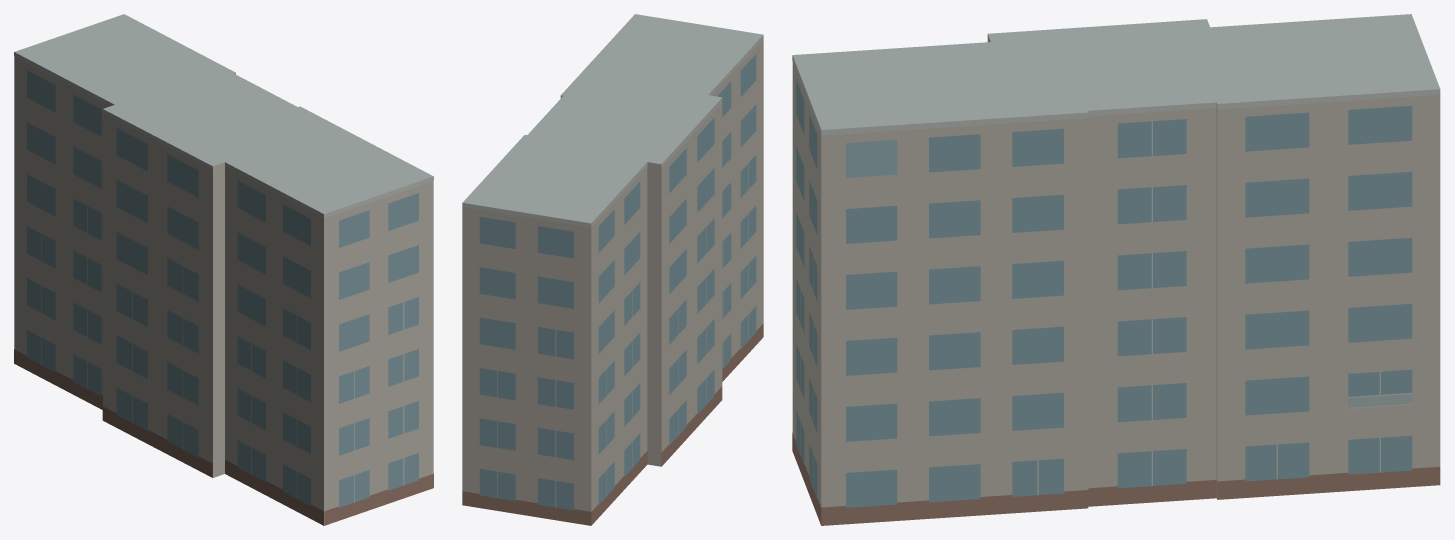
The model's file is survey-upis-32576231.glb.
The picture shows the model from 3 angles, left to right: view 1: azimuth 30°, elevation 25°; view 2: azimuth 150°, elevation 25°; view 3: azimuth 270°, elevation 25°; orthographic projection. The views are drawn at different scales.
Visible parts, largest first — view 1: survey-upis-32576231.tmp; view 2: survey-upis-32576231.tmp; view 3: survey-upis-32576231.tmp.
Boxes of the visible parts, box(x1,y1,x2,y2) form: survey-upis-32576231.tmp: box(14, 14, 433, 525); survey-upis-32576231.tmp: box(462, 14, 763, 525); survey-upis-32576231.tmp: box(792, 14, 1440, 525).
Bounding box in the file's own units: 10.98 × 17.45 × 25.9.
